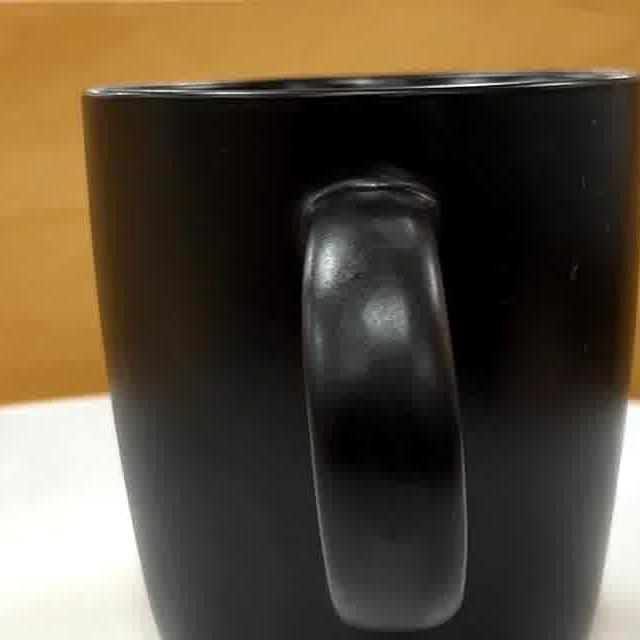cup: (90, 78, 640, 640)
